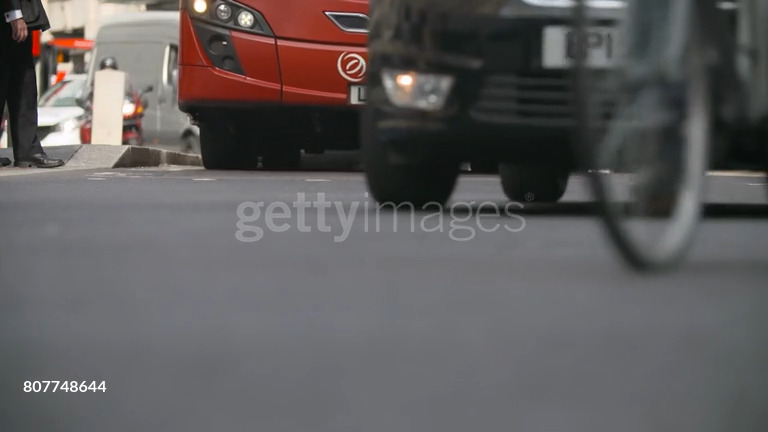car number: (347, 83, 366, 103)
